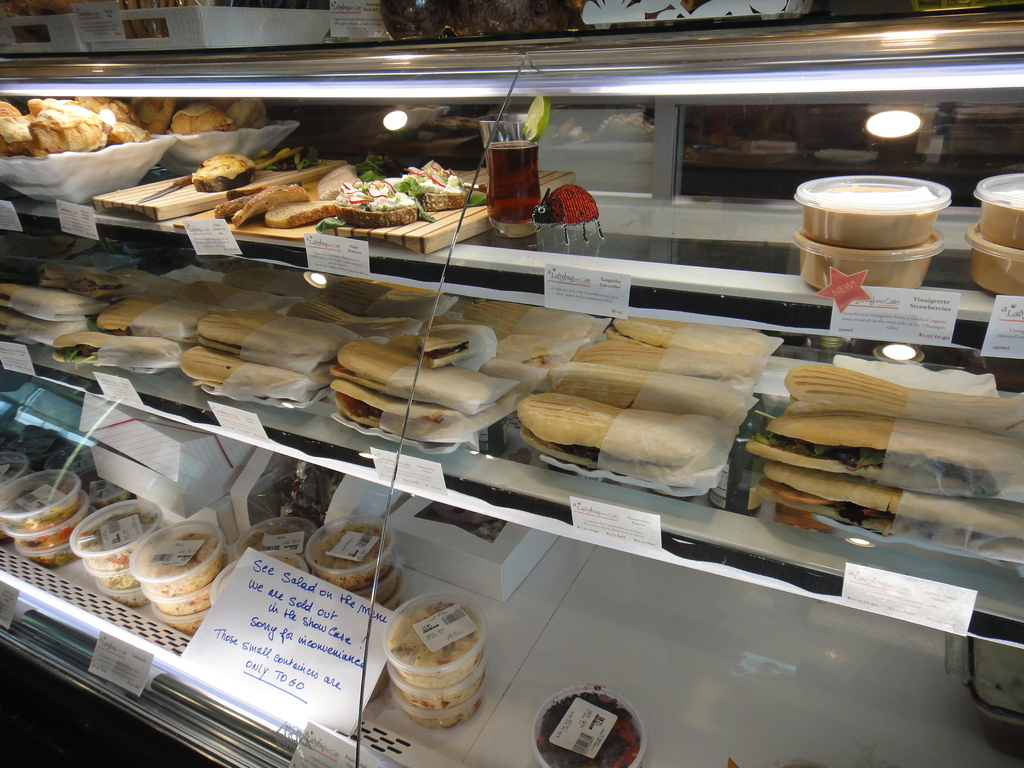sandwich: (0, 269, 1023, 565)
